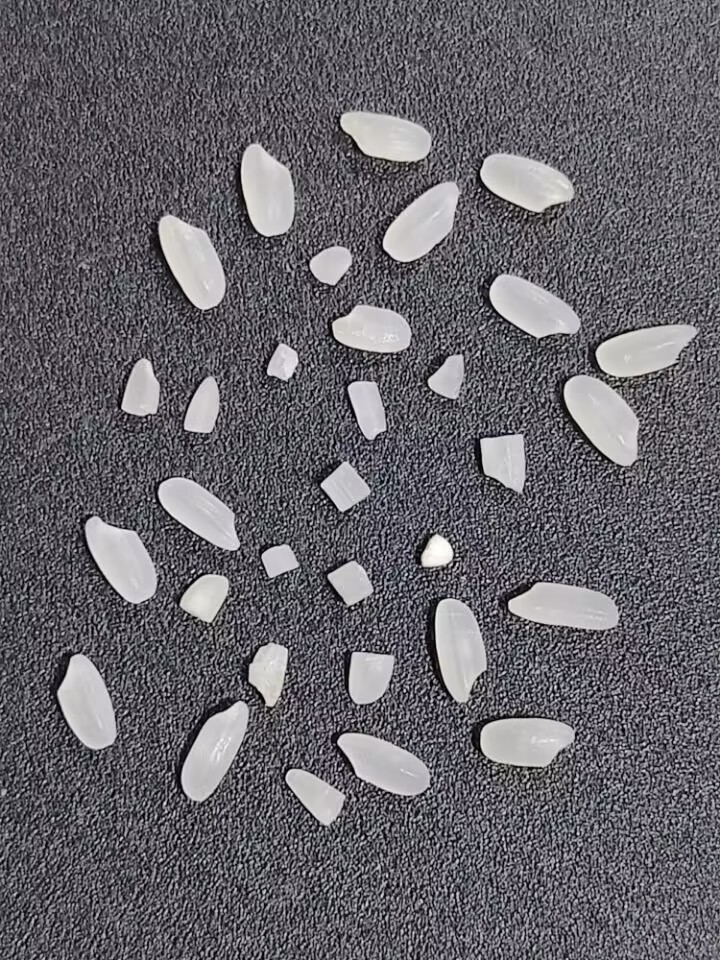broken: (280, 766, 349, 827), (477, 432, 529, 494), (319, 457, 372, 515), (345, 378, 391, 443), (246, 642, 291, 707), (348, 649, 397, 708), (178, 569, 229, 624), (120, 358, 165, 418), (325, 557, 375, 608), (182, 373, 223, 435), (425, 350, 468, 401), (308, 245, 353, 289), (262, 341, 301, 385), (418, 531, 456, 569), (260, 543, 300, 579)
rice: (178, 697, 251, 804), (561, 374, 643, 468), (379, 178, 468, 264), (81, 513, 160, 604), (157, 212, 227, 311), (487, 270, 580, 344), (334, 731, 433, 798), (53, 651, 119, 751), (157, 476, 242, 553), (432, 596, 490, 704), (481, 151, 576, 215), (594, 322, 699, 378), (506, 581, 621, 632), (237, 142, 295, 238), (478, 714, 575, 767), (338, 108, 431, 162), (330, 303, 410, 352)
